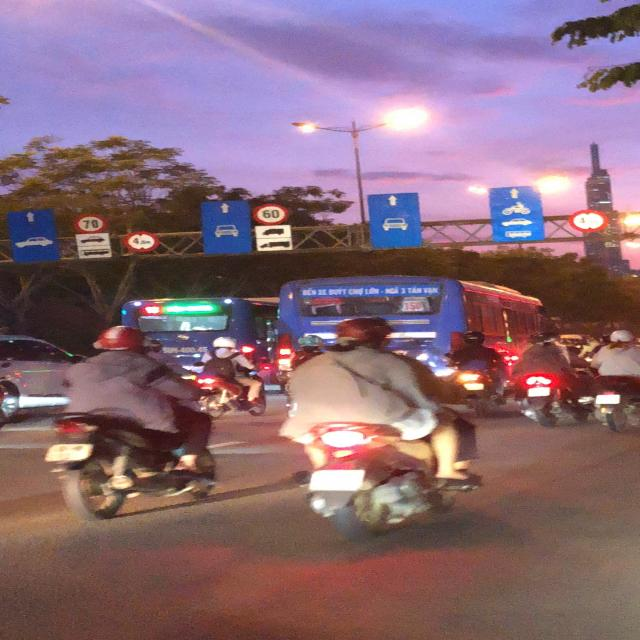Bien bao han che chieu cao: (118, 230, 160, 254)
Bien bao toc do toi da cho phep: (248, 202, 293, 227), (65, 212, 106, 235)
